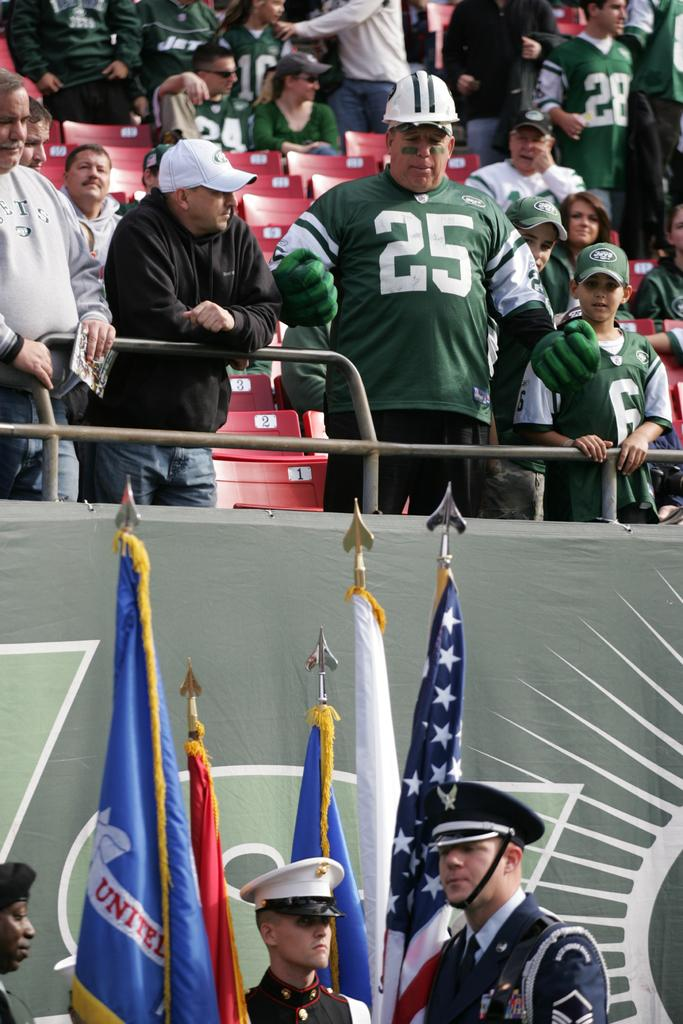helmet: (381, 70, 460, 188)
nohelmet: (158, 138, 258, 233), (569, 242, 633, 324), (62, 143, 112, 207), (0, 68, 30, 174), (275, 50, 333, 104), (508, 109, 556, 174), (559, 191, 609, 252), (192, 42, 239, 98)
